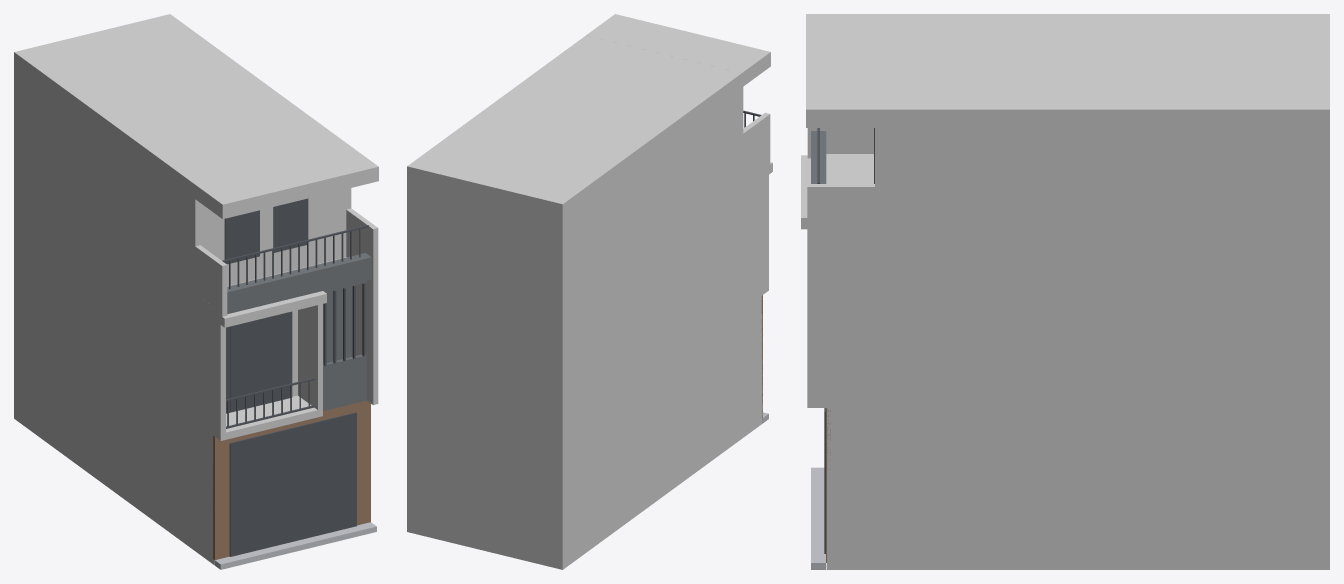
Rendered from urban-house.glb.
3 views of the same model, side by side, from view 1: azimuth 30°, elevation 25°; view 2: azimuth 150°, elevation 25°; view 3: azimuth 270°, elevation 25° (orthographic). The views are drawn at different scales.
Visible parts, largest first — view 1: House_Core_Body_0, GF_Garage_Portal_Casing_3, Top_Floating_Roof_Canopy_62, F2_Door_Casing_27, F2_Box_Side_L_8, GF_Brown_Marble_Facade_2, F3_Terrace_Solid_Parapet_39, F3_Side_Column_R_42, F2_Box_Side_R_9, F2_Right_Solid_Wall_31, F2_Box_Bottom_Slab_11, GF_Entrance_Apron_1 (+6 smaller); view 2: House_Core_Body_0, Top_Floating_Roof_Canopy_62, F2_Box_Side_L_8, F3_Side_Column_L_41; view 3: House_Core_Body_0, F3_Side_Column_R_42, Top_Floating_Roof_Canopy_62, GF_Entrance_Apron_1, F3_Terrace_Deck_40, F3_Side_Column_L_41, F3_Terrace_Solid_Parapet_39.
Boxes of the visible parts, <box> form: House_Core_Body_0: <box>14,14,351,564</box>; GF_Garage_Portal_Casing_3: <box>229,412,356,556</box>; Top_Floating_Roof_Canopy_62: <box>193,145,378,218</box>; F2_Door_Casing_27: <box>226,311,292,413</box>; F2_Box_Side_L_8: <box>184,290,225,440</box>; GF_Brown_Marble_Facade_2: <box>213,400,370,559</box>; F3_Terrace_Solid_Parapet_39: <box>227,253,371,313</box>; F3_Side_Column_R_42: <box>346,208,378,404</box>; F2_Box_Side_R_9: <box>298,304,322,416</box>; F2_Right_Solid_Wall_31: <box>323,354,366,411</box>; F2_Box_Bottom_Slab_11: <box>221,395,322,439</box>; GF_Entrance_Apron_1: <box>214,522,376,569</box>; House_Core_Body_0: <box>407,35,762,569</box>; Top_Floating_Roof_Canopy_62: <box>586,14,770,87</box>; F2_Box_Side_L_8: <box>733,166,768,316</box>; F3_Side_Column_L_41: <box>743,112,770,183</box>; House_Core_Body_0: <box>827,14,1329,569</box>; F3_Side_Column_R_42: <box>807,184,878,407</box>; Top_Floating_Roof_Canopy_62: <box>806,14,879,127</box>; GF_Entrance_Apron_1: <box>811,467,826,569</box>; F3_Terrace_Deck_40: <box>826,154,873,183</box>; F3_Side_Column_L_41: <box>807,128,873,158</box>; F3_Terrace_Solid_Parapet_39: <box>811,131,826,183</box>.
Size of the model in its own units: 4.5 by 10.1 by 10.52.
